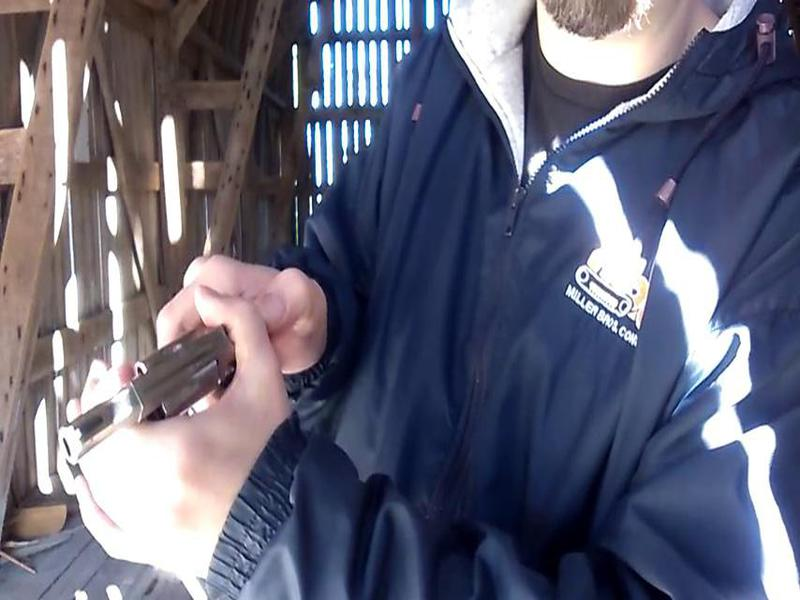Revolver: (34, 284, 257, 502)
